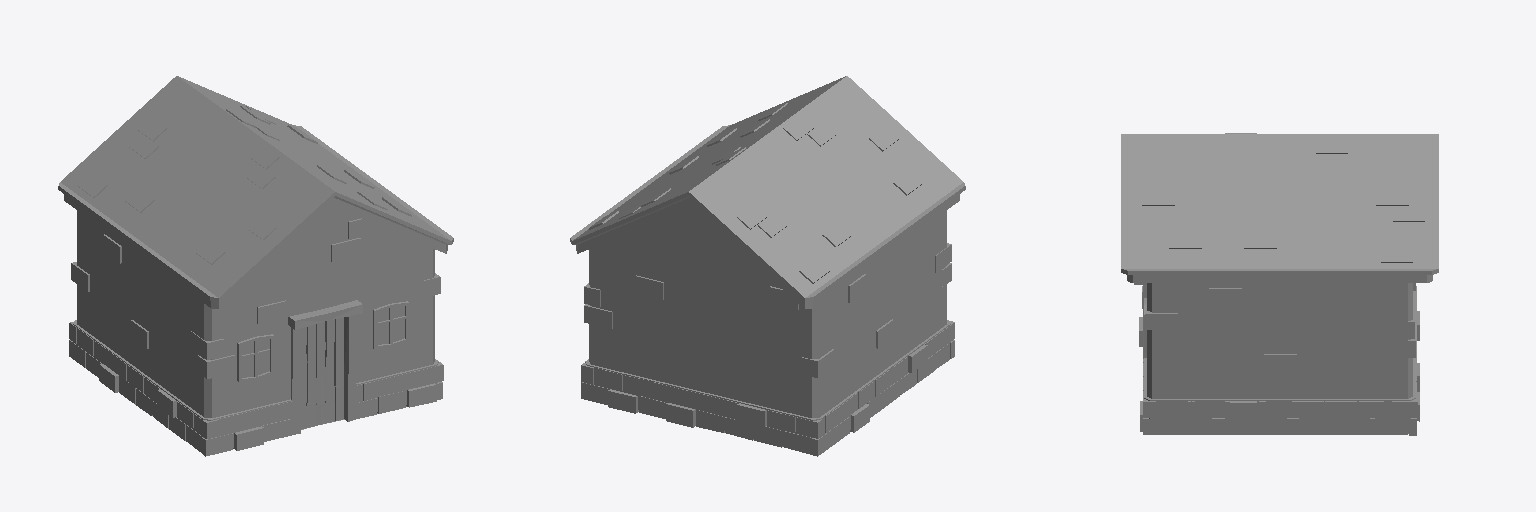
File: 1Story_GableRoof.obj
3 views of the same model, side by side, from view 1: azimuth 30°, elevation 25°; view 2: azimuth 150°, elevation 25°; view 3: azimuth 270°, elevation 25° (orthographic).
Visible parts, largest first — view 1: 1Story_GableRoof_Cube.062; view 2: 1Story_GableRoof_Cube.062; view 3: 1Story_GableRoof_Cube.062.
Part boxes in pixels (x1,y1,x2,y2): 1Story_GableRoof_Cube.062: (58, 76, 453, 456); 1Story_GableRoof_Cube.062: (570, 76, 965, 456); 1Story_GableRoof_Cube.062: (1121, 133, 1438, 435).
Size of the model in its own units: 2.11 by 2.02 by 2.38.